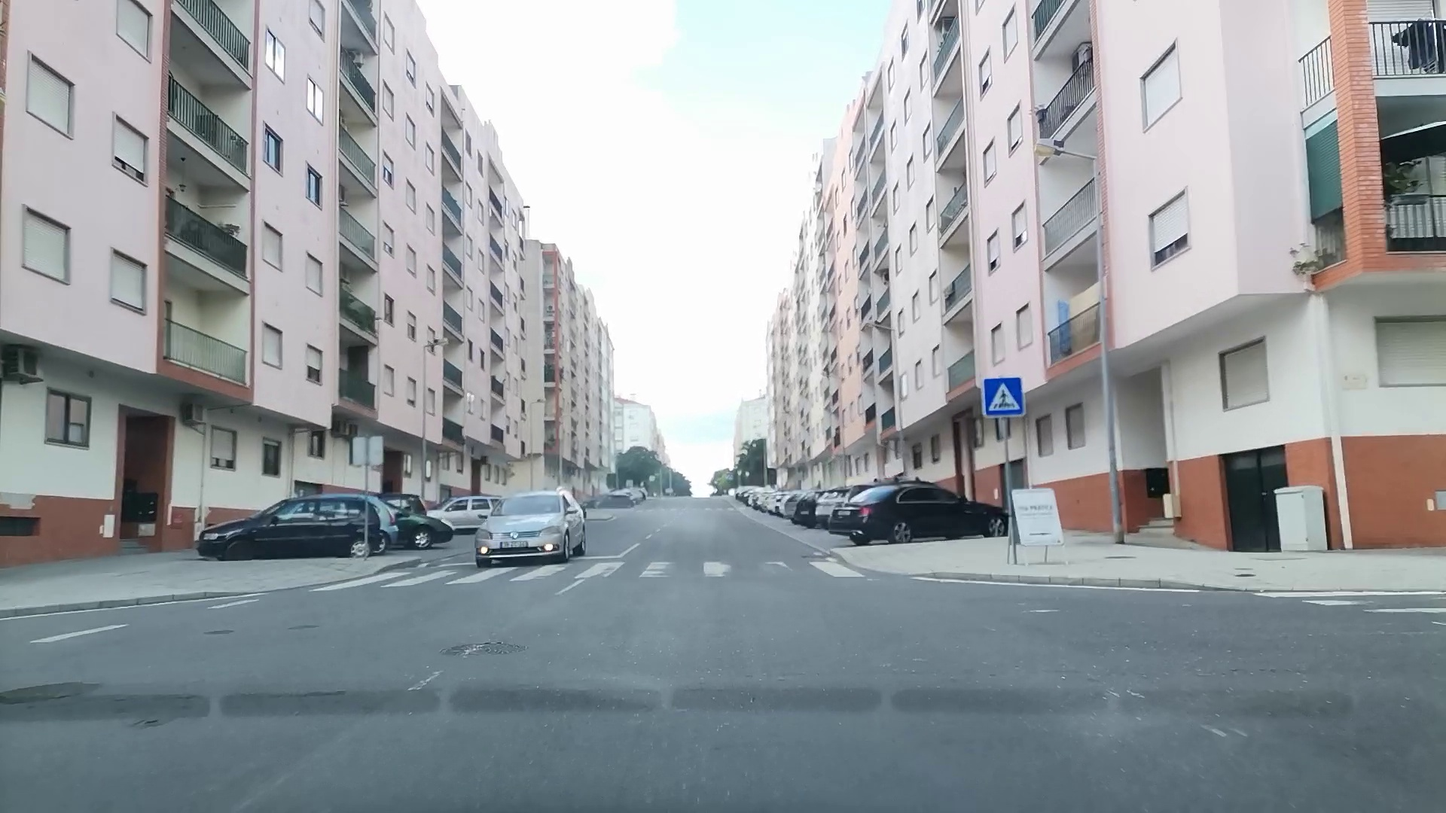Stairs: (311, 555, 869, 592)
